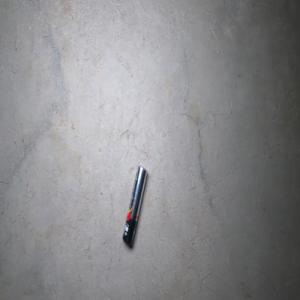Battery: (122, 164, 147, 246)
